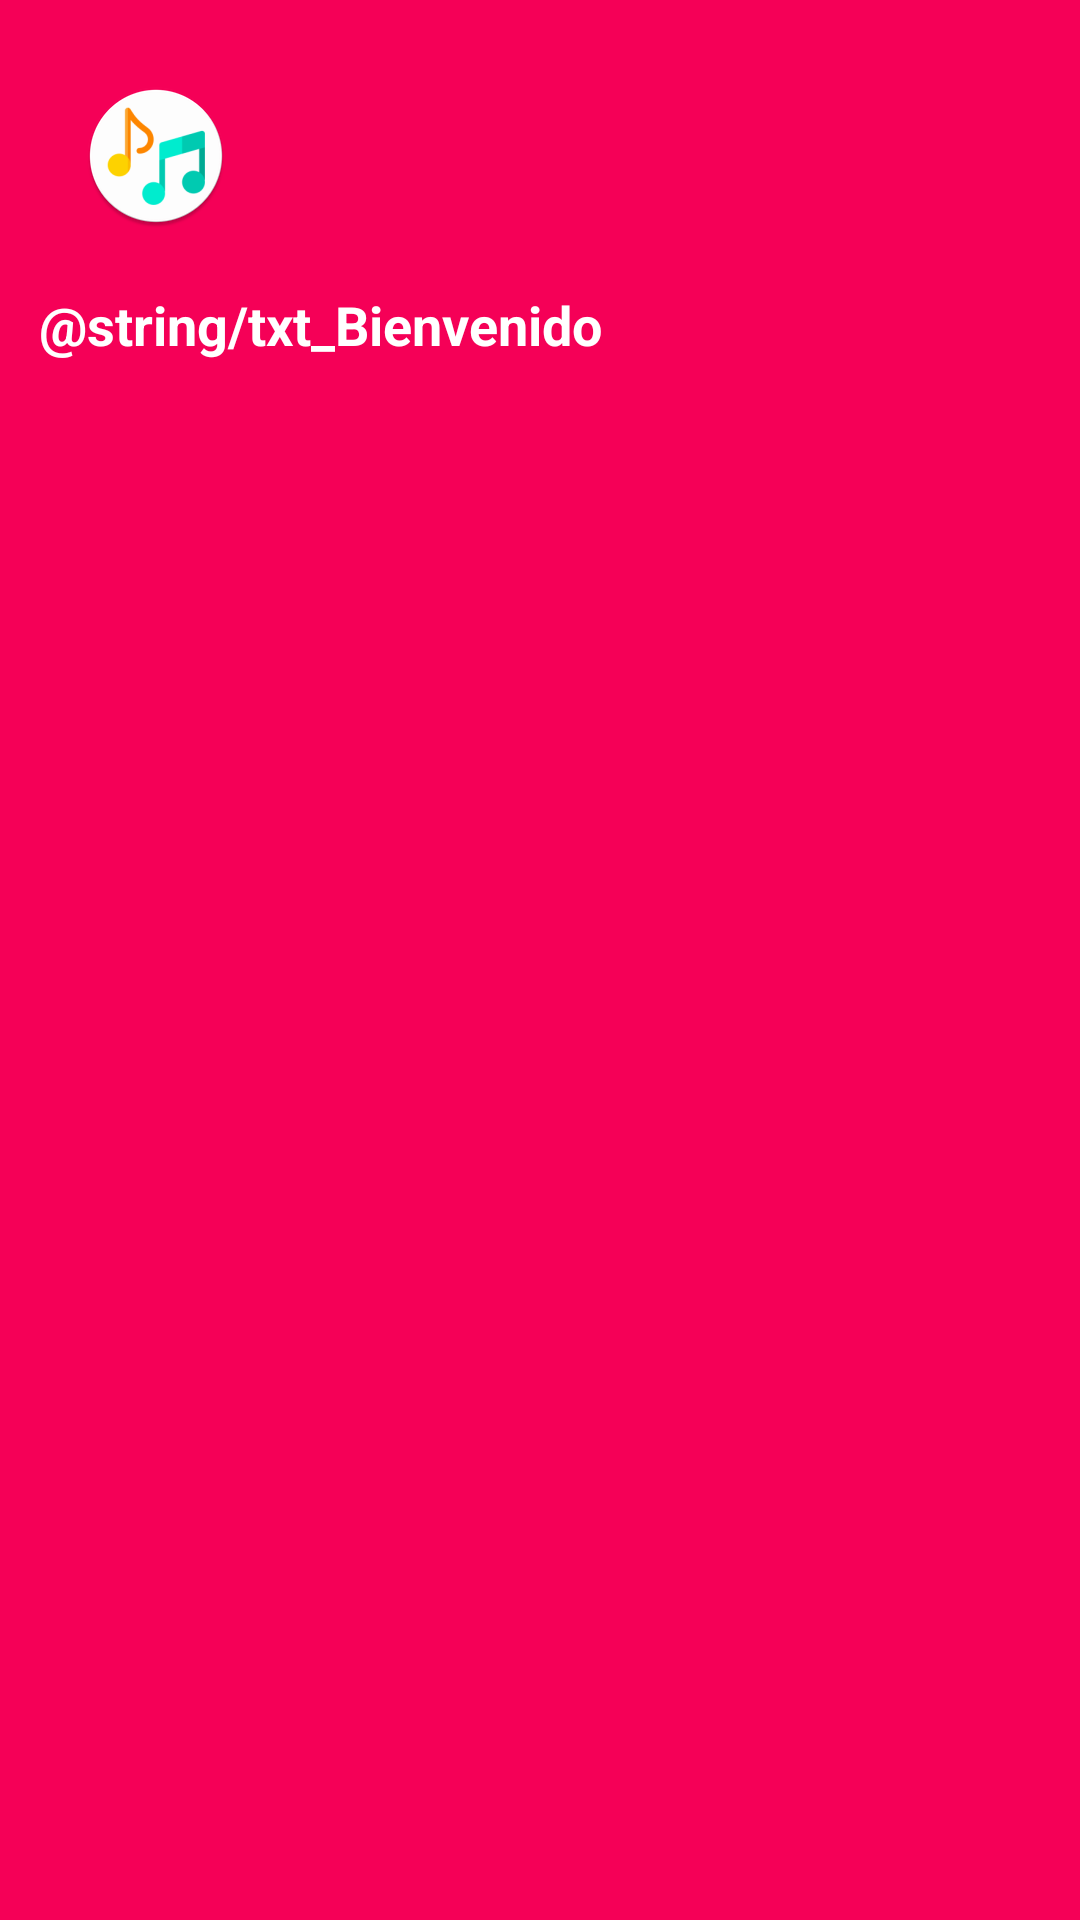

Named icons in this screenshot (1080 x 1920) and their bounding boxes, (left=x1, top=y1, right=x2, bottom=y2):
reproductor musica round: (left=89, top=89, right=223, bottom=225)
